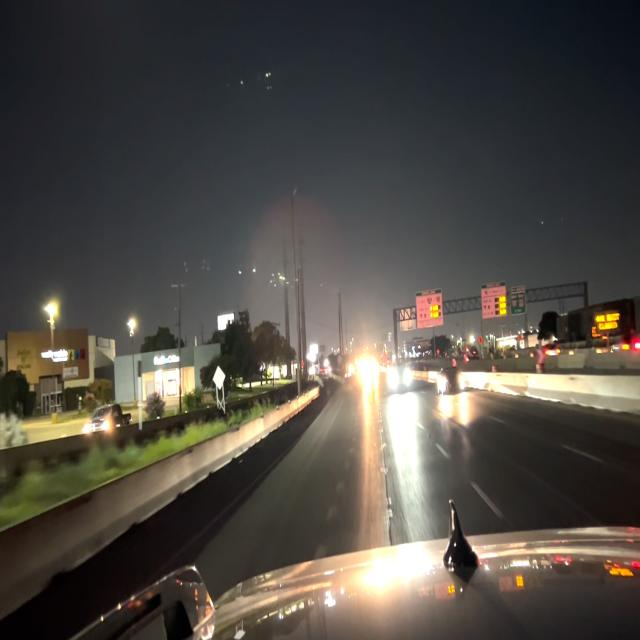back-of-sign: (397, 305, 418, 335)
